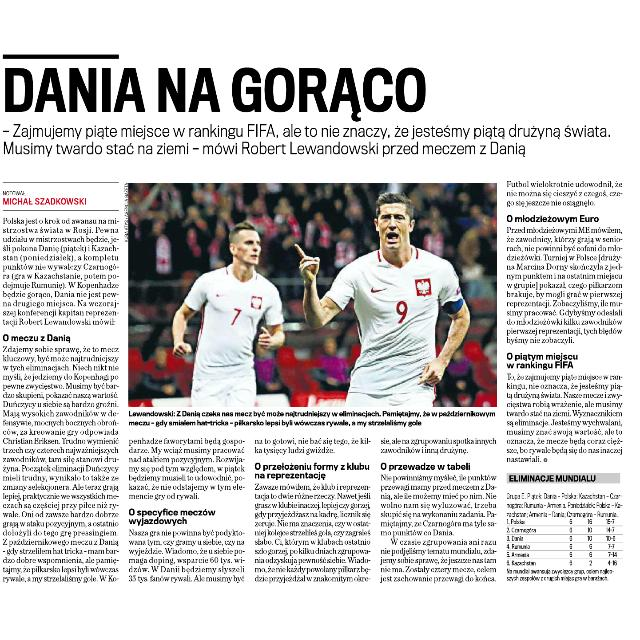author: (2, 195, 92, 208)
body: (2, 212, 124, 584), (502, 179, 626, 467), (251, 436, 373, 586), (377, 436, 498, 586), (125, 436, 247, 584)
caption: (128, 406, 498, 429)
image: (127, 179, 499, 407)
lead: (1, 122, 620, 160)
title: (2, 64, 440, 122)
